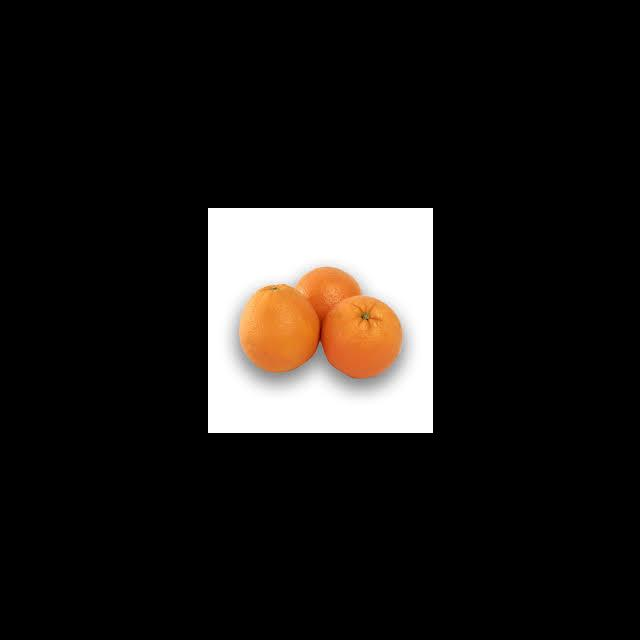orange: (317, 289, 418, 381), (239, 272, 323, 378), (279, 265, 368, 341)
